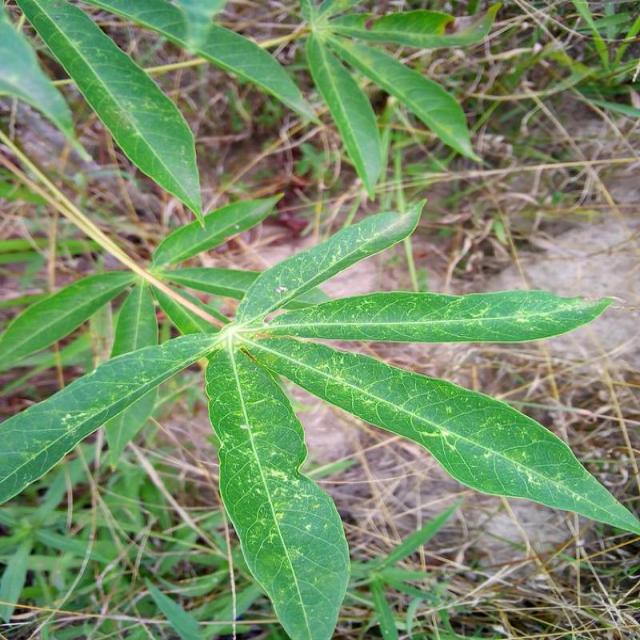cassava leaf: (2, 194, 639, 638), (205, 339, 352, 638), (15, 0, 207, 228)
